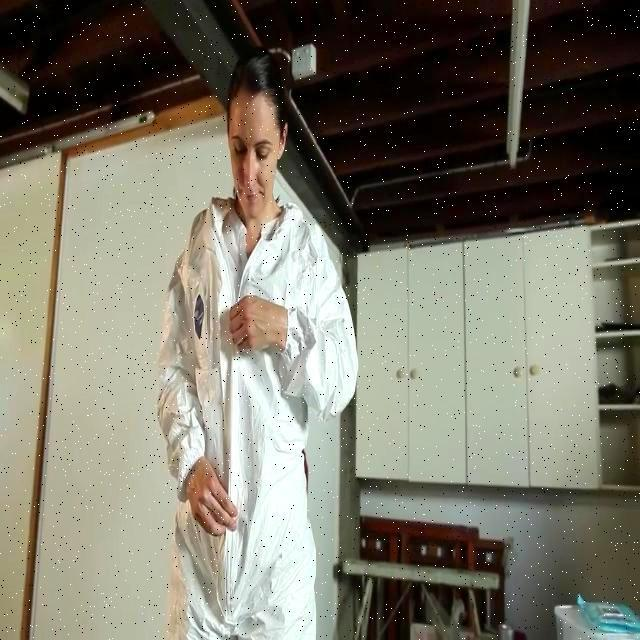no_apron: (177, 462, 237, 538), (210, 303, 286, 349)
no_hairnet: (228, 154, 277, 212)
